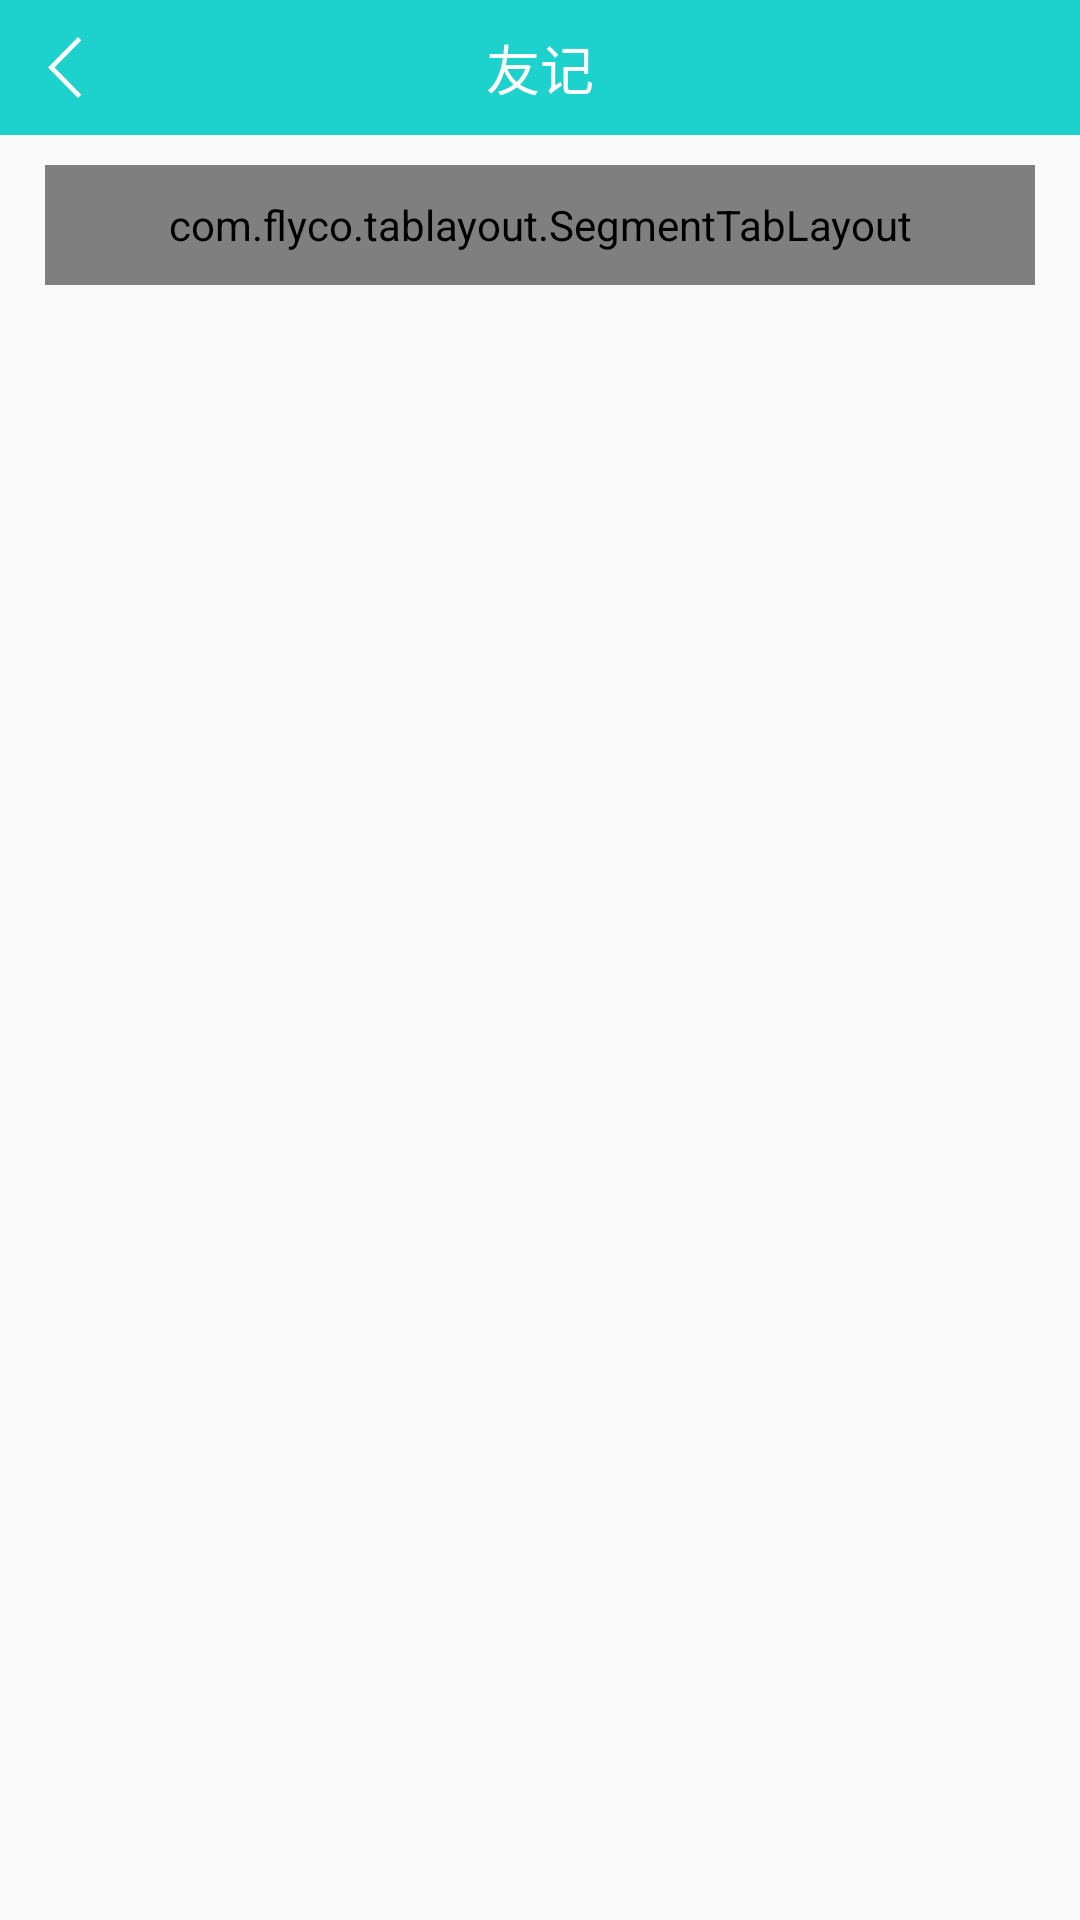

Screen size 1080*1920. Icon name, then its center in pixels as point (x, y):
title back: point (64, 67)
